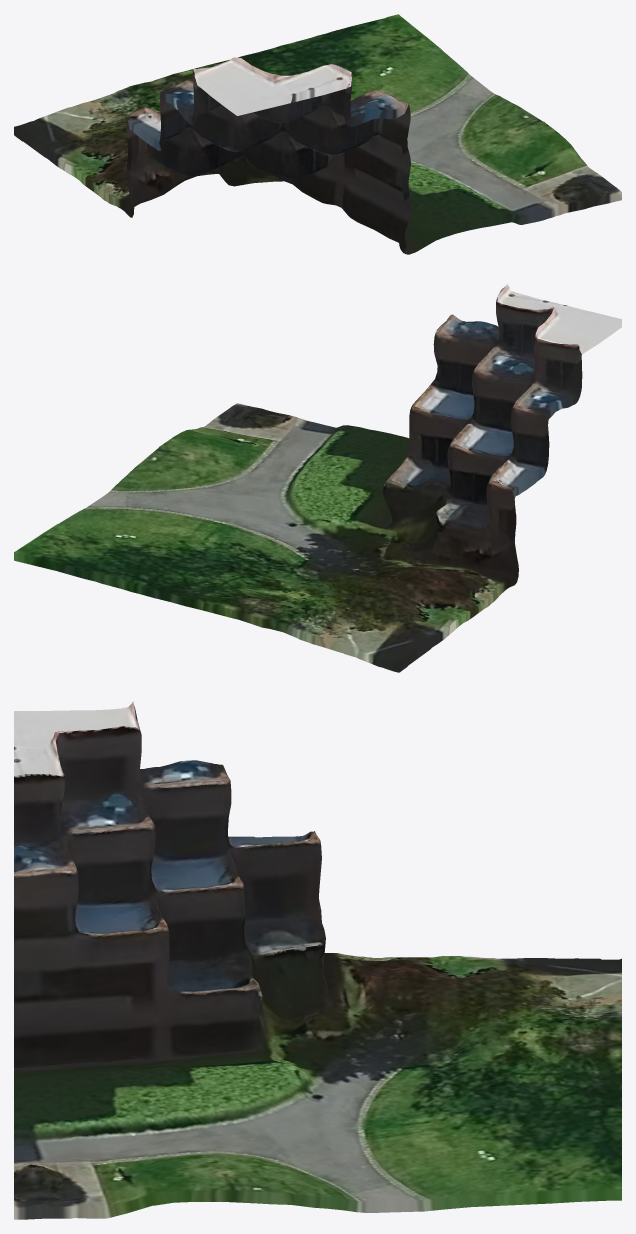
File: z20-167768-405195-h0-yup-uvflip-v3-world.glb
3 renders of one model, top to bottom at view 1: azimuth 30°, elevation 25°; view 2: azimuth 150°, elevation 25°; view 3: azimuth 270°, elevation 25°, orthographic. The views are drawn at different scales.
Bounding box in the file's own units: 30.16 × 15.04 × 30.32.
1 material, 1 textured.
